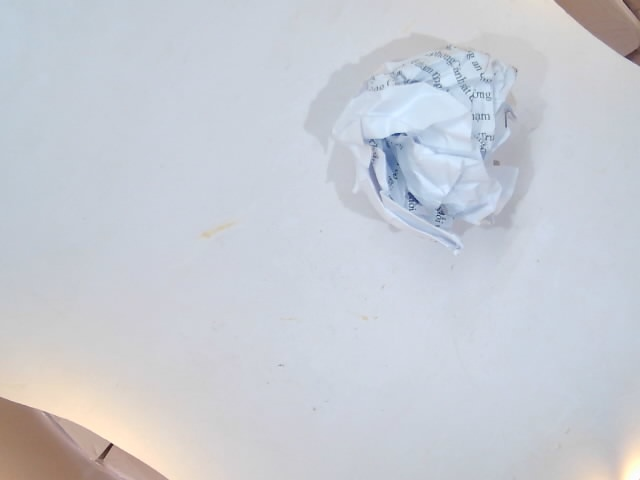paper: (322, 31, 554, 264)
